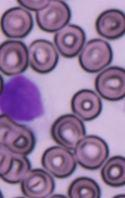L: (0, 72, 50, 124)
